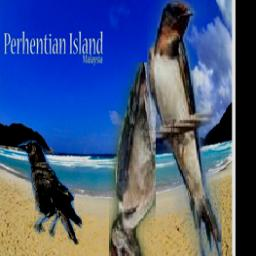Crow: (16, 138, 83, 245)
Swallow: (148, 0, 223, 256)
Woodpecker: (109, 62, 156, 256)
